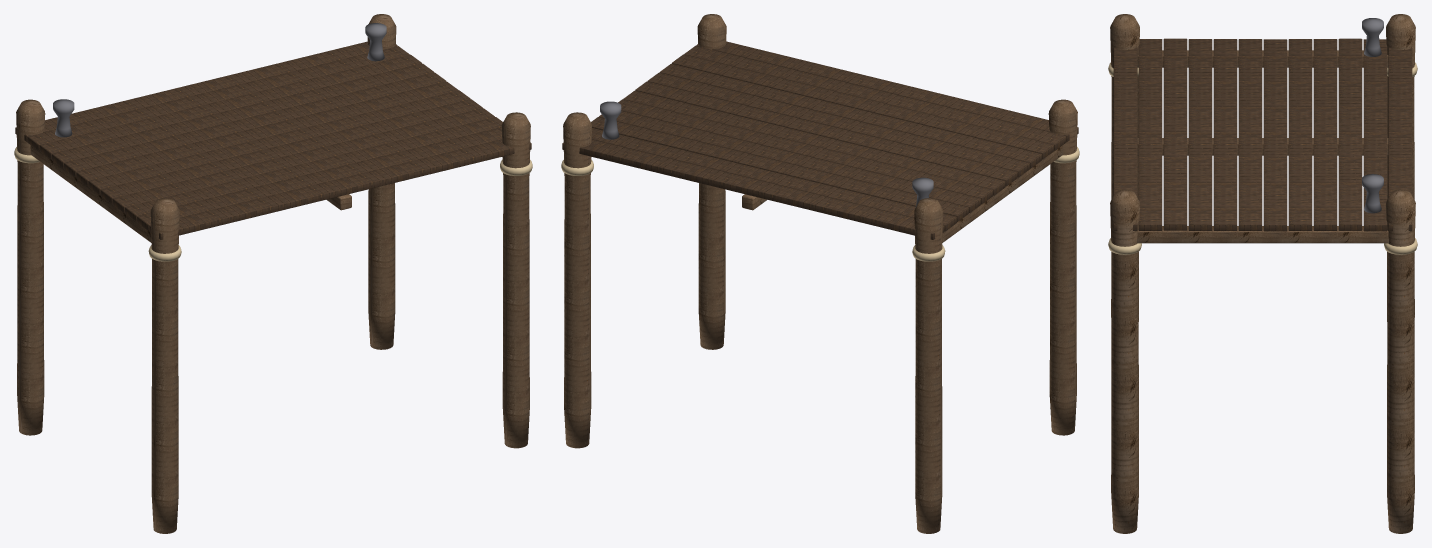
Rendered from pier_end.glb.
The picture shows the model from 3 angles, left to right: view 1: azimuth 30°, elevation 25°; view 2: azimuth 150°, elevation 25°; view 3: azimuth 270°, elevation 25°; orthographic projection. The views are drawn at different scales.
Visible parts, largest first — view 1: pier_end; view 2: pier_end; view 3: pier_end.
Boxes of the visible parts, x1,y1,x2,y2 form: pier_end: [14, 14, 532, 533]; pier_end: [561, 14, 1079, 533]; pier_end: [1108, 14, 1417, 533].
Bounding box in the file's own units: 4.5 × 3.78 × 3.1.
Materials: 4 (2 with a texture image).
